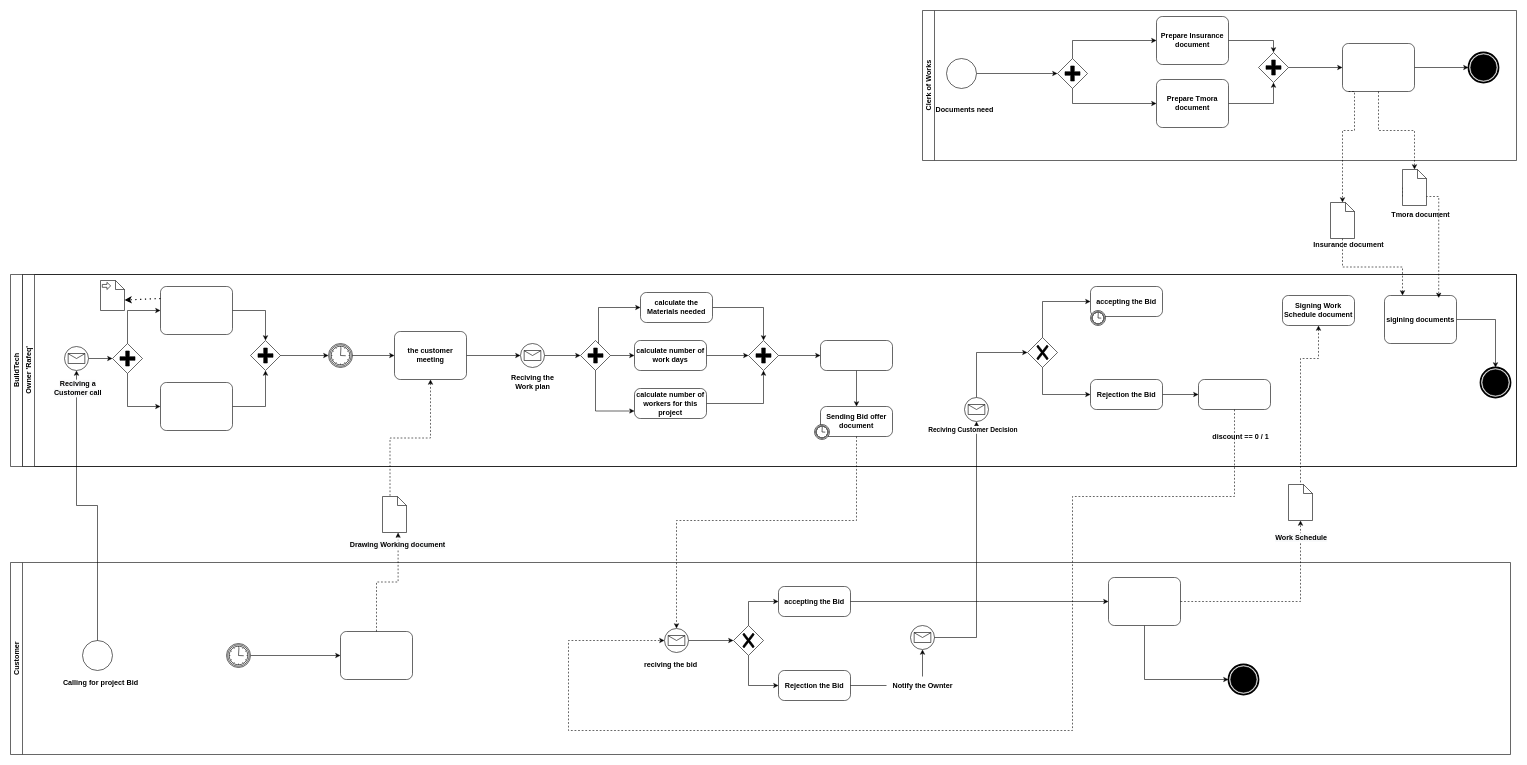
This 1527x765 diagram has some shape labels left out. The shapes that lost their labels are listed below. From the top down, each one's centre as x and y in pixels, then its label:
At point (1378, 67): "Sending documents".
At point (196, 310): "enter the customer details.".
At point (856, 355): "deciding project revenue".
At point (196, 406): "Scheduling a meeting with a customer".
At point (1234, 394): "Offering a Discount".
At point (1144, 601): "Sending Work Schedule".
At point (376, 655): "Sending Drawing Working".
